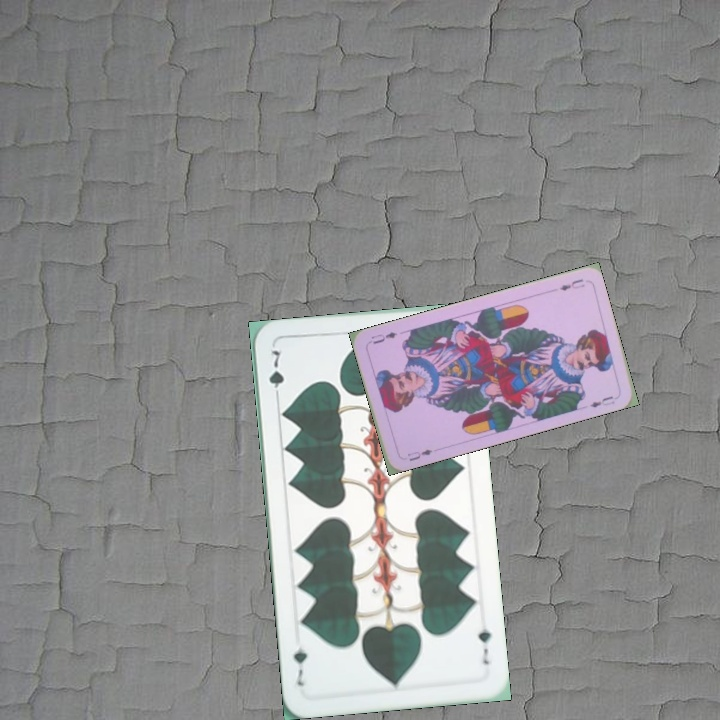EU: (403, 445, 435, 464), (555, 275, 587, 293)
G7: (264, 346, 287, 403), (474, 624, 493, 668)
